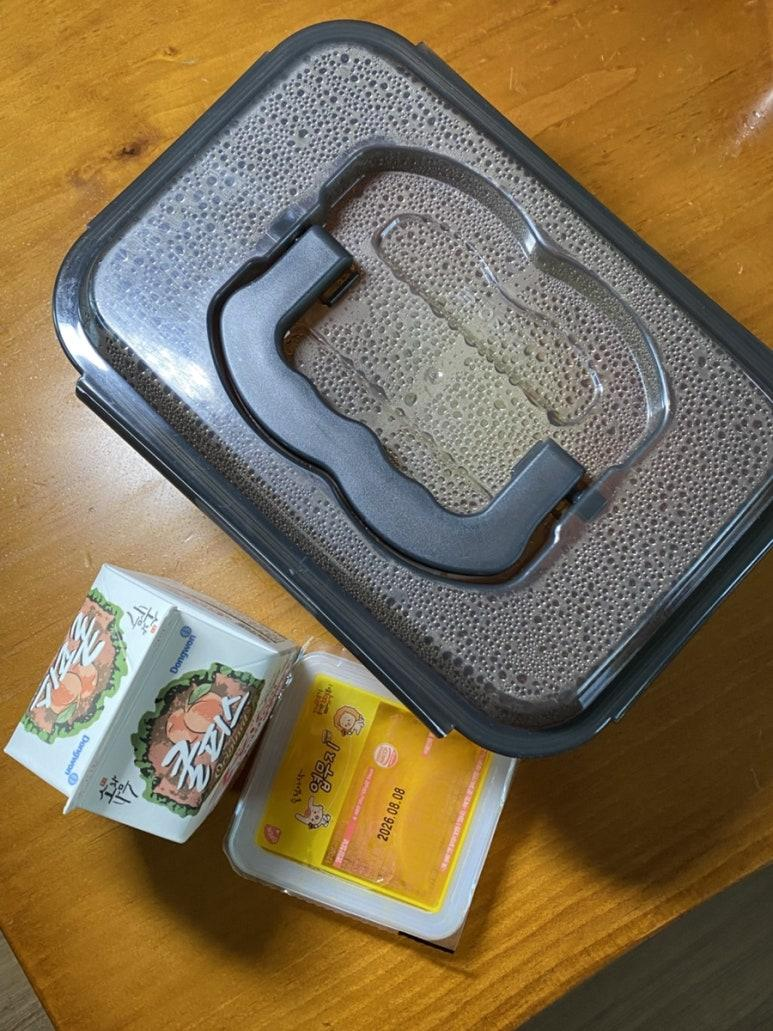Lunch Box: (55, 22, 772, 756), (226, 652, 514, 946)
